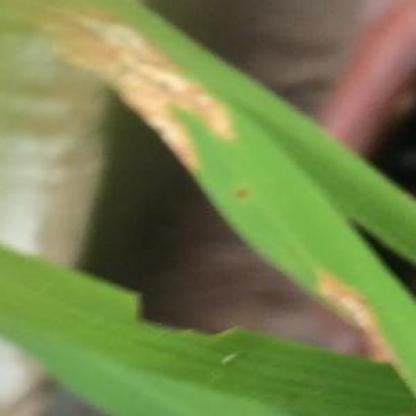Rice blast: (30, 1, 240, 183), (306, 259, 406, 367)
